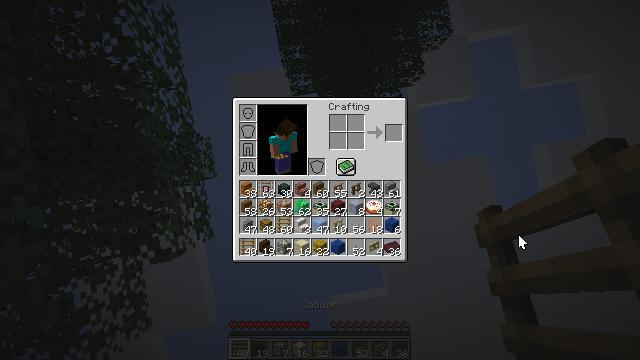cursor: (518, 234, 528, 250)
